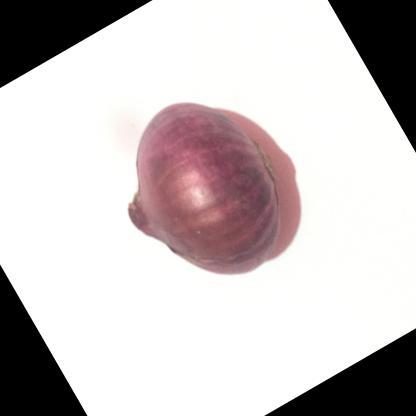onion: (70, 48, 350, 358)
